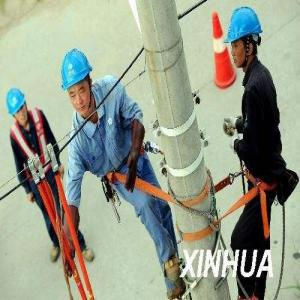blue: (61, 50, 94, 117), (229, 8, 263, 73), (6, 86, 28, 127)
